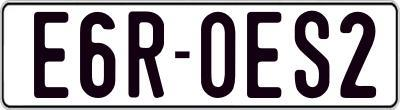0: (201, 9, 240, 98)
2: (337, 10, 375, 98)
6: (77, 12, 114, 100)
E: (31, 9, 68, 99), (246, 12, 281, 101)
R: (127, 9, 163, 98)
S: (293, 11, 330, 104)
